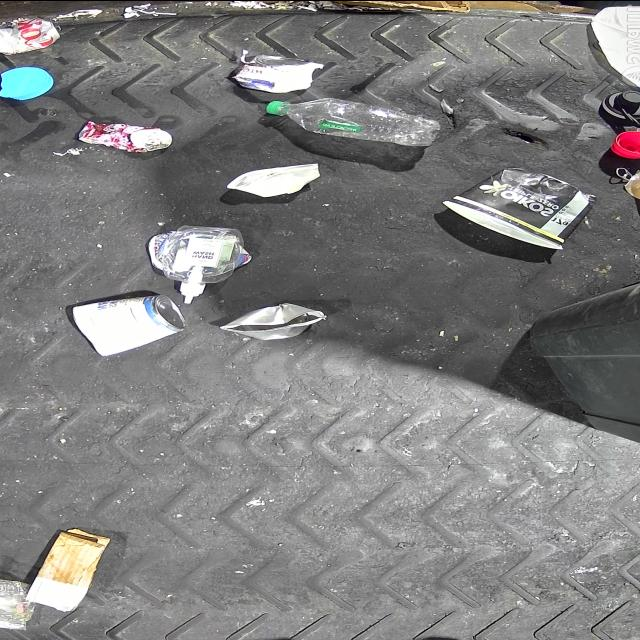can: (70, 293, 188, 357), (220, 302, 328, 340), (77, 119, 173, 152), (235, 56, 317, 92), (0, 14, 64, 54)
milk_jug: (591, 5, 640, 95)
plastic_bottle: (266, 98, 442, 146)
